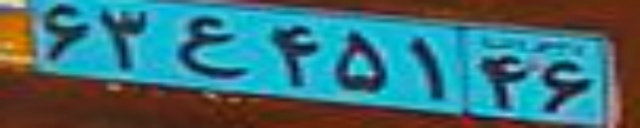1: (405, 35, 443, 102)
3: (98, 9, 149, 70)
4: (267, 24, 323, 88), (474, 54, 529, 109)
5: (323, 31, 392, 93)
6: (534, 60, 593, 114), (41, 1, 89, 60)
ain: (175, 16, 246, 80)
